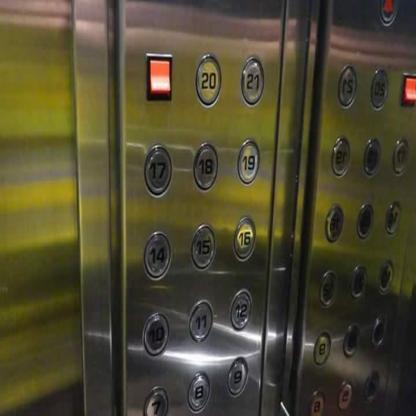10: (142, 307, 170, 359)
11: (186, 296, 214, 348)
12: (227, 285, 252, 334)
14: (143, 228, 171, 280)
15: (189, 219, 217, 272)
16: (231, 215, 257, 262)
17: (143, 141, 172, 197)
18: (191, 138, 220, 193)
19: (236, 136, 260, 186)
20: (194, 52, 222, 107)
21: (237, 52, 266, 107)
7: (143, 382, 168, 415)
8: (186, 369, 210, 414), (307, 388, 326, 415)
9: (226, 353, 250, 398)
empty: (362, 135, 382, 176), (348, 260, 368, 301), (341, 316, 361, 357), (355, 199, 375, 239), (361, 365, 380, 405), (370, 312, 387, 348)
switch: (143, 48, 174, 103)
unknown: (336, 62, 358, 110), (330, 134, 352, 180), (323, 198, 345, 244), (368, 62, 389, 110), (318, 265, 338, 311), (312, 329, 332, 369), (390, 135, 409, 176), (384, 196, 401, 236), (378, 254, 394, 295), (336, 379, 355, 410)
